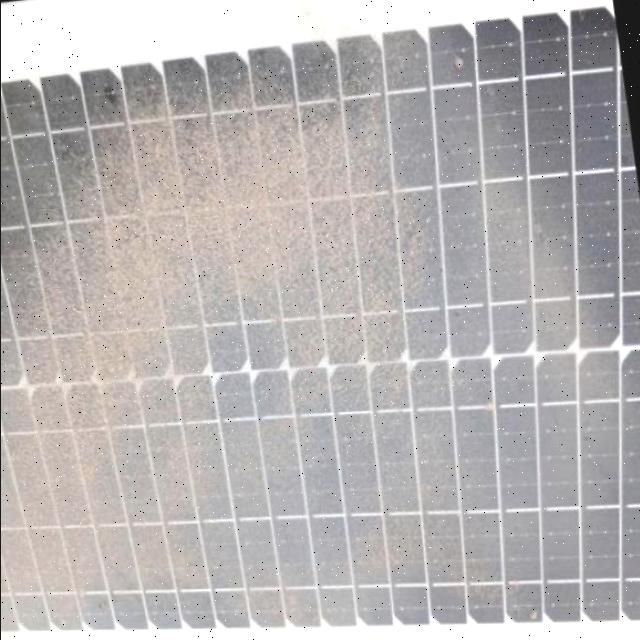Anomaly Solar Panel: (0, 0, 640, 640)
Surface Contaminant: (0, 60, 471, 640)
